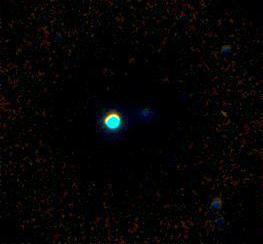star: (210, 98, 240, 128)
